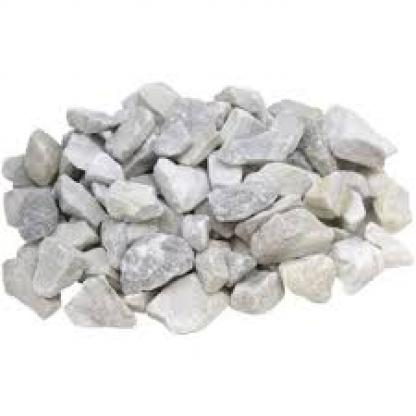Metamorphic_Marble: (320, 98, 396, 172), (140, 268, 222, 329), (250, 198, 336, 255), (59, 270, 141, 327), (218, 109, 302, 161), (118, 235, 194, 288), (59, 133, 128, 191), (205, 172, 281, 224), (30, 237, 92, 294), (154, 152, 214, 210), (44, 174, 109, 227), (301, 172, 370, 220), (278, 250, 336, 300), (226, 264, 279, 312)
